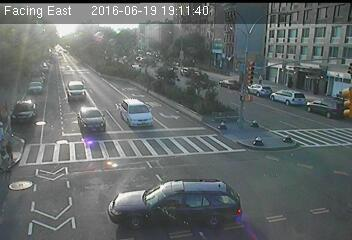neg: (169, 90, 193, 123), (116, 76, 134, 99), (61, 80, 70, 93)
pos: (255, 70, 268, 88)
